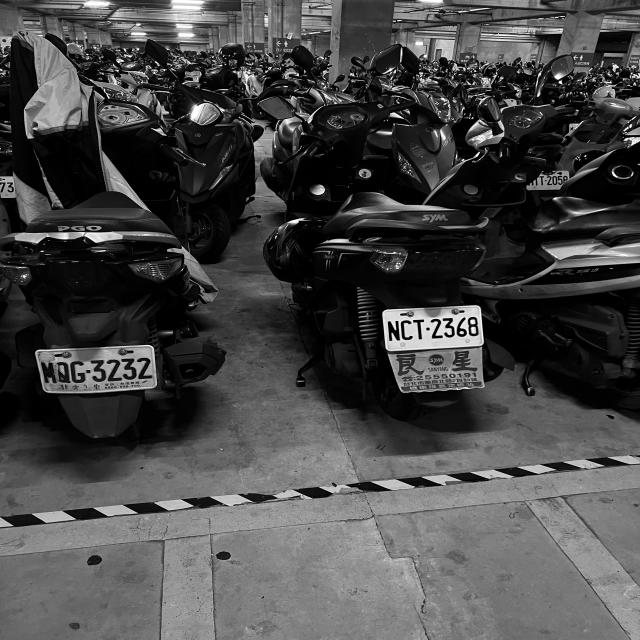-: (85, 368, 91, 374), (425, 326, 430, 331), (544, 180, 548, 182)
0: (552, 176, 558, 185)
2: (137, 356, 154, 381), (106, 357, 123, 381), (430, 318, 443, 339), (547, 176, 552, 186)
3: (121, 357, 138, 380), (91, 360, 107, 382), (442, 317, 456, 338), (7, 182, 14, 192)
5: (557, 176, 563, 185)
6: (455, 317, 468, 337)
7: (0, 182, 6, 192)
8: (467, 316, 480, 337)
C: (401, 319, 413, 340)
G: (70, 360, 86, 383)
M: (38, 361, 58, 384)
N: (386, 320, 402, 342)
T: (413, 318, 425, 339), (539, 176, 545, 186)
plate: (29, 348, 164, 392), (376, 306, 491, 345)
